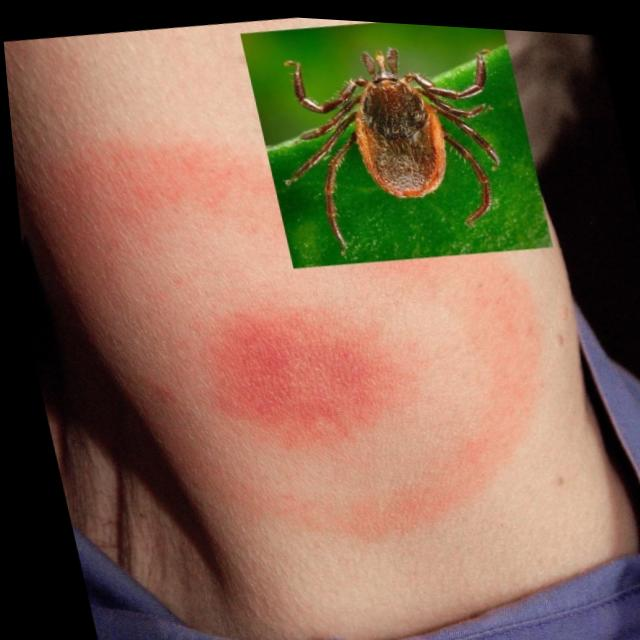Erythema migrans: (198, 287, 561, 574)
